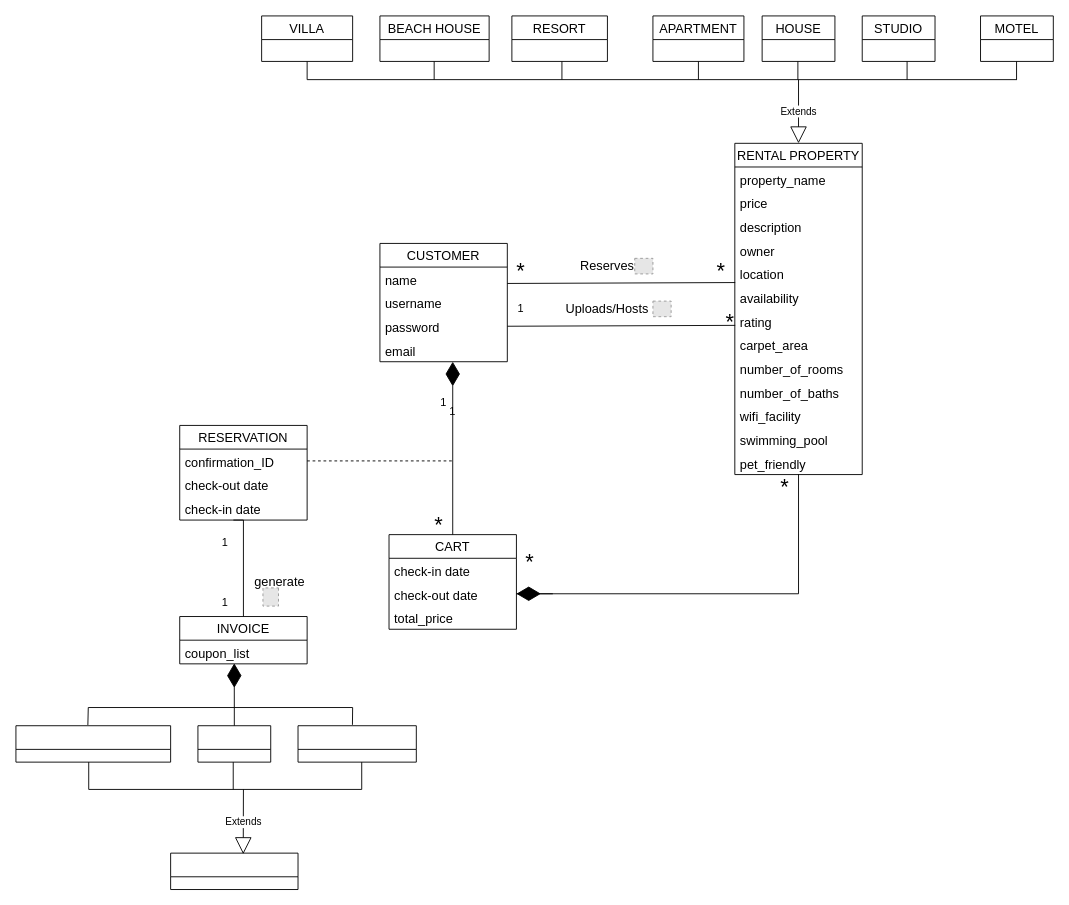
The diagram is 1069 pixels wide and 905 high, and some of its shapes have lost their labels. Grey dashed boxes stand in for pictures. Here are the shapes that lost their labels. From the top down, the centre of each, then its label:
the point at 93,743: ADD PROCESSING FEE
the point at 234,743: ADD TAX
the point at 356,743: ADD COUPONS
the point at 234,871: ADD-ONS
